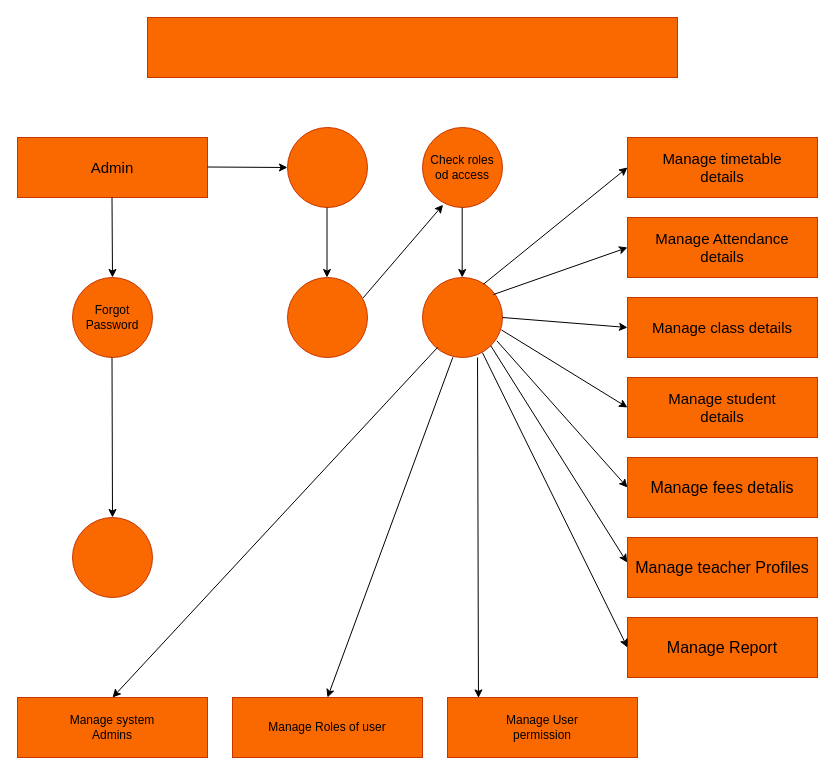
The diagram is 835 pixels wide and 775 high, and some of its shapes have lost their labels. The box of each missing label's shape, as (x1, y1, x2, y2) in pixels:
Check credentials: (286, 276, 368, 358)
Login to system: (286, 126, 368, 208)
Manage Modules: (422, 276, 502, 358)
Send email to user: (72, 516, 152, 598)
Student Information System: (146, 16, 678, 78)
